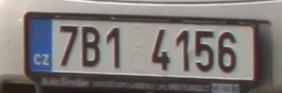1: (176, 30, 190, 72), (107, 27, 119, 69)
4: (152, 29, 169, 70)
5: (195, 30, 213, 72)
6: (218, 31, 236, 73)
7: (60, 26, 78, 67)
B: (82, 26, 100, 68)
